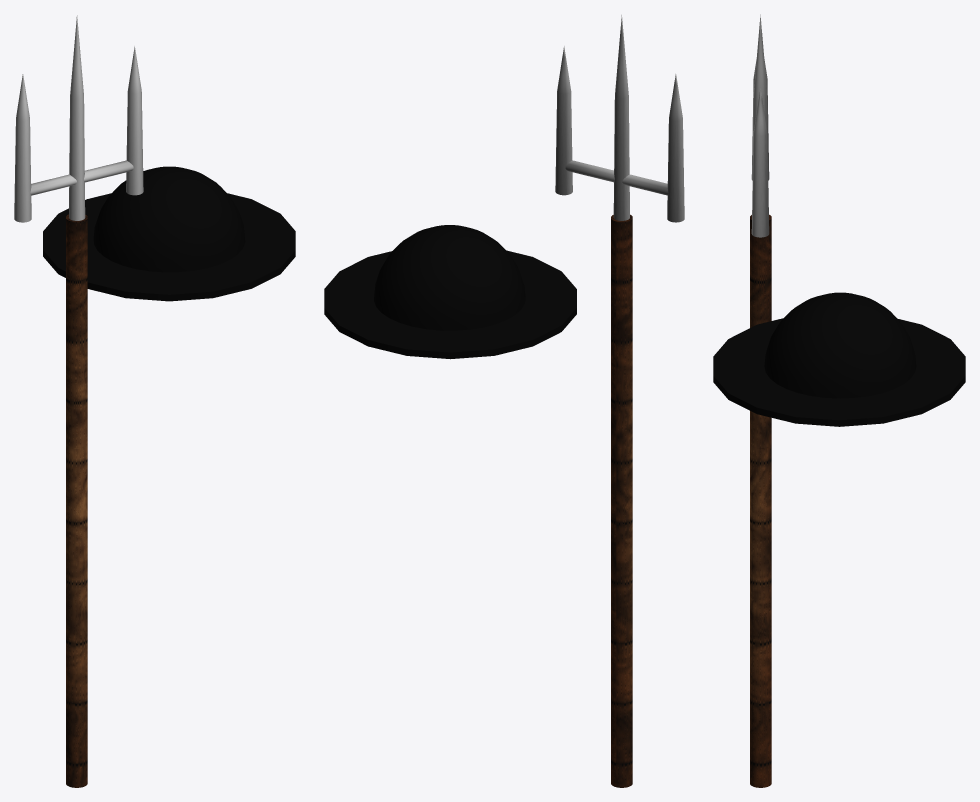
File: hat_weapon.FBX
The picture shows the model from 3 angles, left to right: view 1: azimuth 30°, elevation 25°; view 2: azimuth 150°, elevation 25°; view 3: azimuth 270°, elevation 25°; orthographic projection.
Visible parts, largest first — view 1: Plane005, Cylinder011; view 2: Plane005, Cylinder011; view 3: Plane005, Cylinder011.
Part boxes in pixels (bbox=[...]): Plane005: bbox=[43, 166, 295, 301]; Cylinder011: bbox=[14, 15, 143, 787]; Plane005: bbox=[324, 225, 576, 359]; Cylinder011: bbox=[555, 15, 684, 787]; Plane005: bbox=[713, 292, 965, 426]; Cylinder011: bbox=[750, 14, 771, 787].
Size of the model in its own units: 42.88 by 103 by 30.8.
